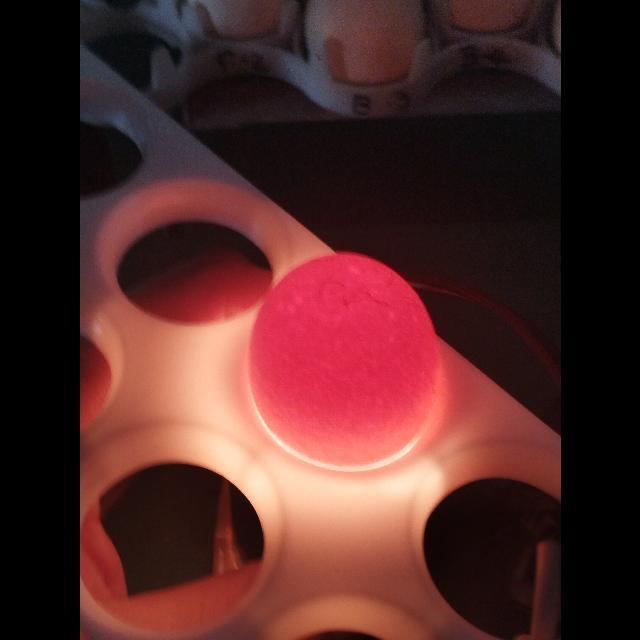Infertile: (250, 247, 440, 465)
